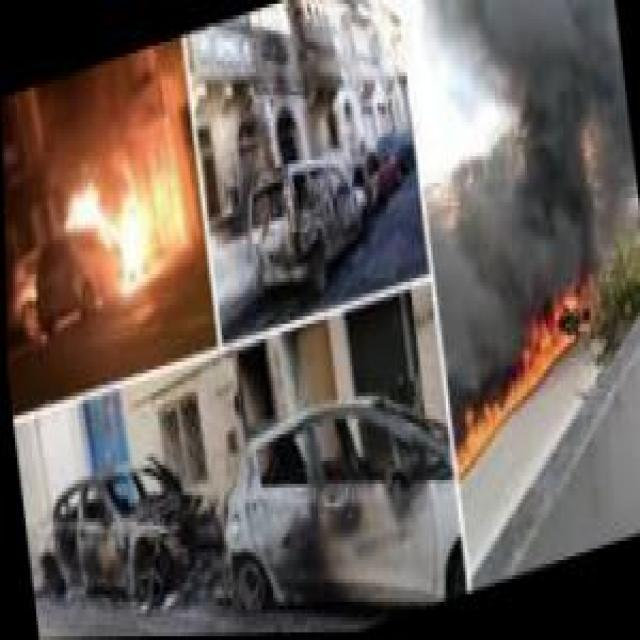Fire: (442, 259, 610, 480), (2, 148, 158, 350)
Smoke: (403, 0, 637, 312)
